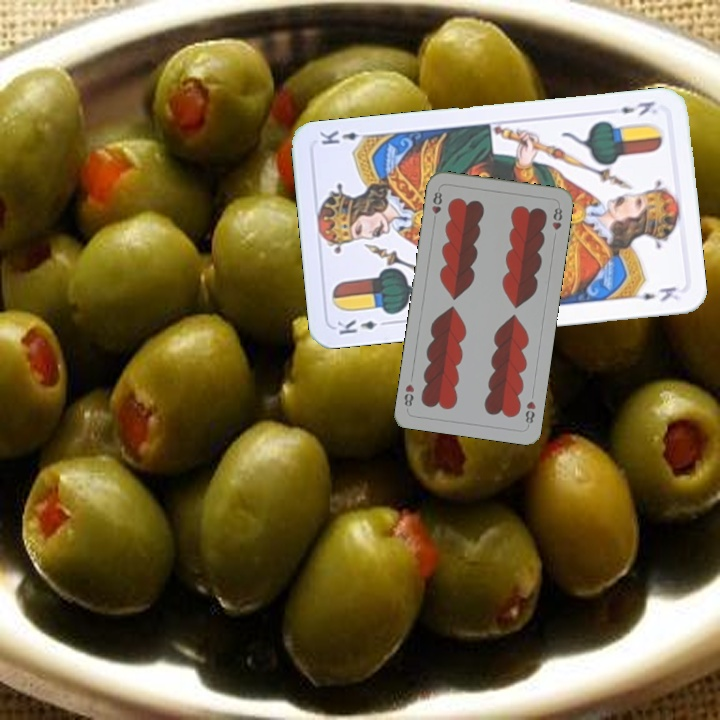EK: (333, 316, 392, 337), (616, 97, 657, 118)
H8: (521, 397, 538, 429), (428, 185, 445, 216)
